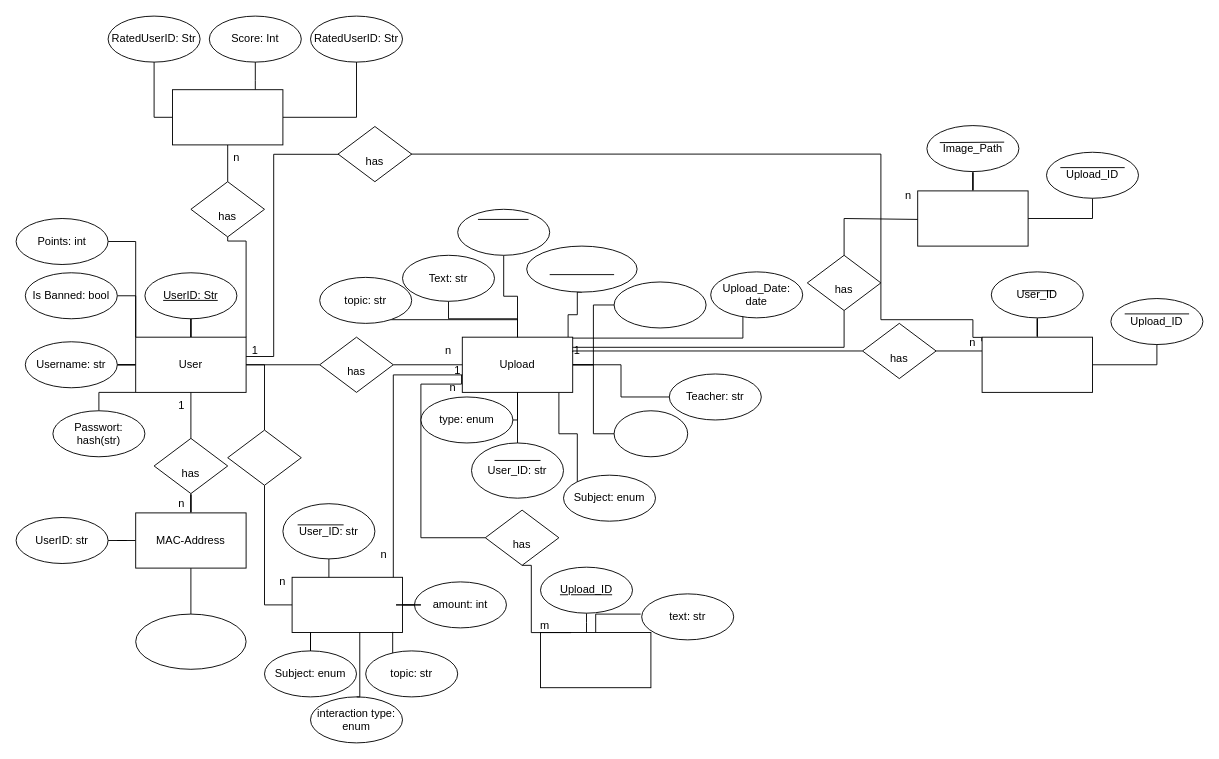
This 1219x759 diagram has some shape labels left out. The shapes that lost their labels are listed below. From the top down, each one's box as (x1, y1, x2, y2) in pixels, then its label:
(172, 89, 283, 145): Rating
(457, 208, 550, 255): Reference: UploadID
(917, 190, 1028, 246): Upload Image
(526, 245, 637, 292): Upload_ ID : str
(613, 281, 706, 328): Path: str
(981, 336, 1092, 392): Upload Like
(613, 410, 688, 457): num_likes: int
(227, 429, 301, 485): does
(291, 576, 402, 632): Algorhytmus
(135, 613, 246, 669): MAC_Address: str
(540, 632, 651, 688): Hashtag
